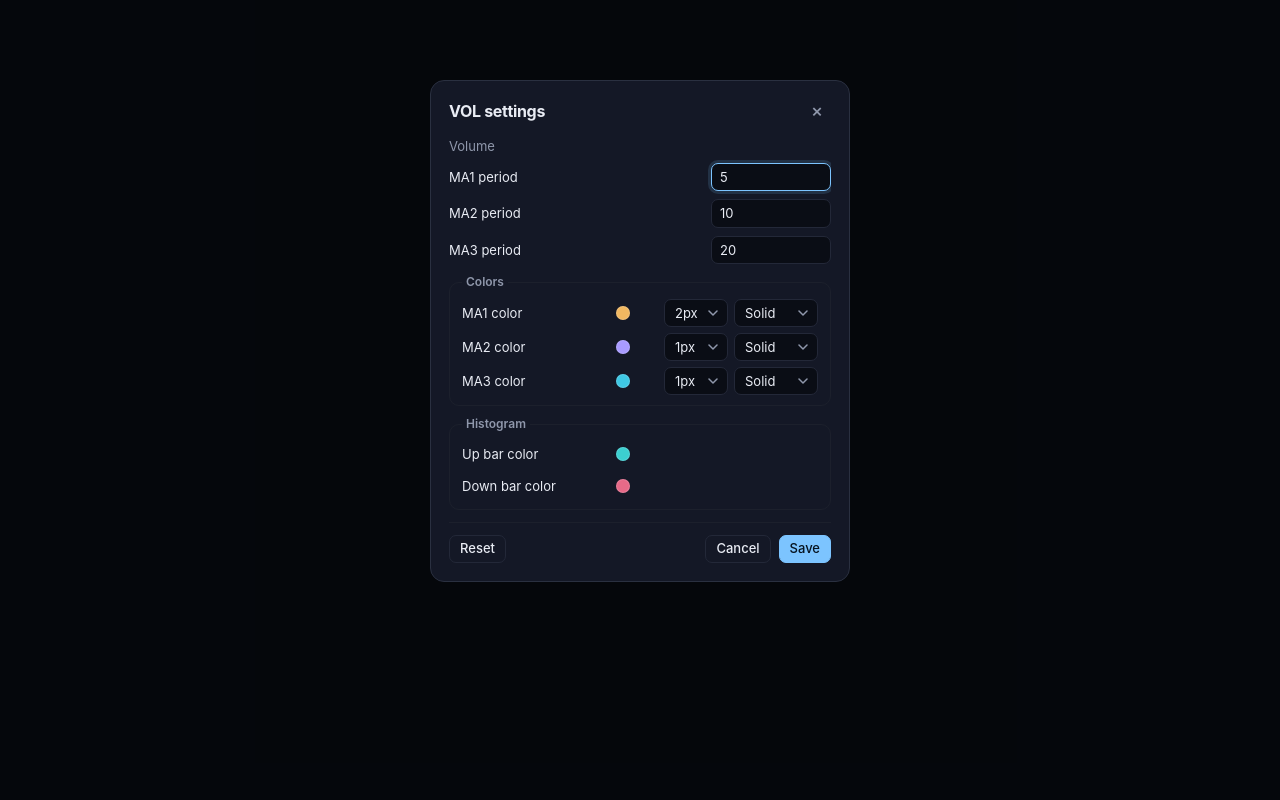
Test: IndicatorSettings line width / style and bar colors › histogram indicators get up/down bar colors; Reset restores everything
Later steps or results of the test are not shown.
Click the button named "Up bar color".
click(623, 454)  # box [610,441,636,467]
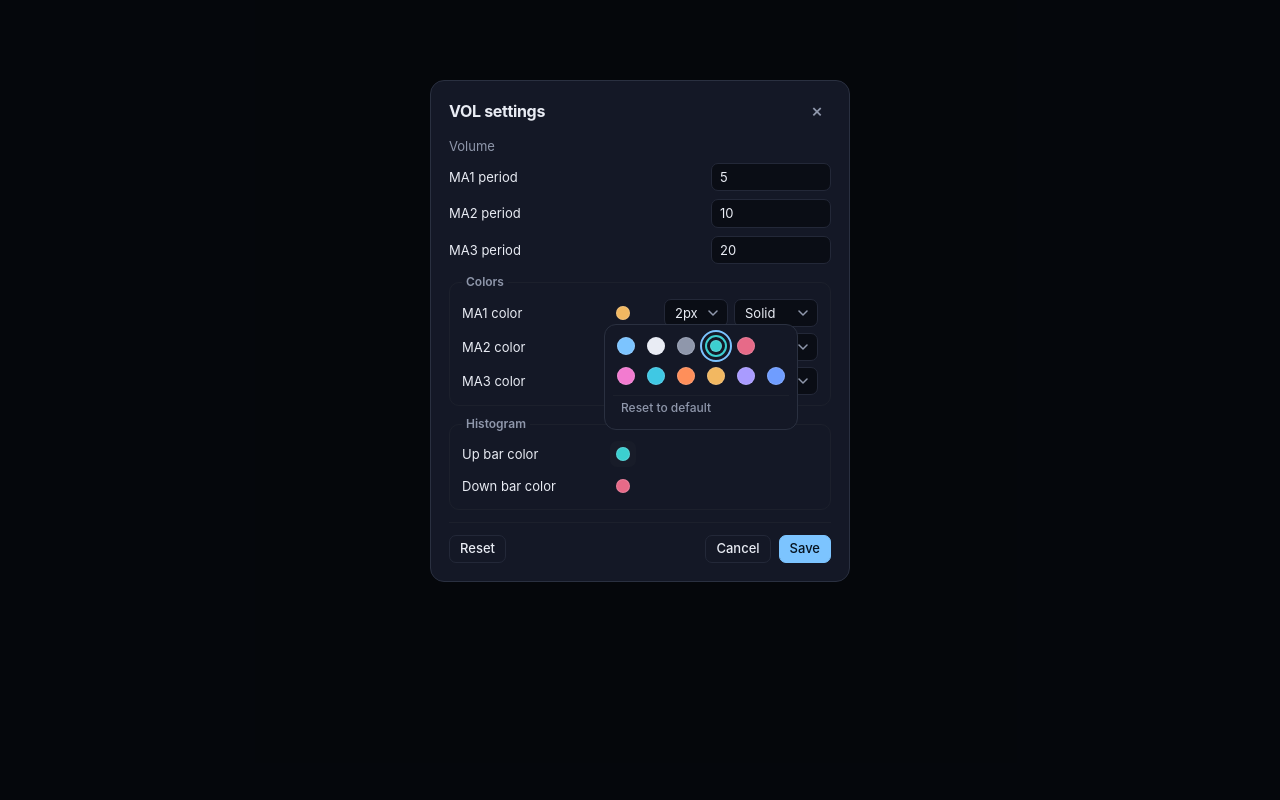
Click the option named "Blue".
click(776, 376)  # box [767,367,785,385]
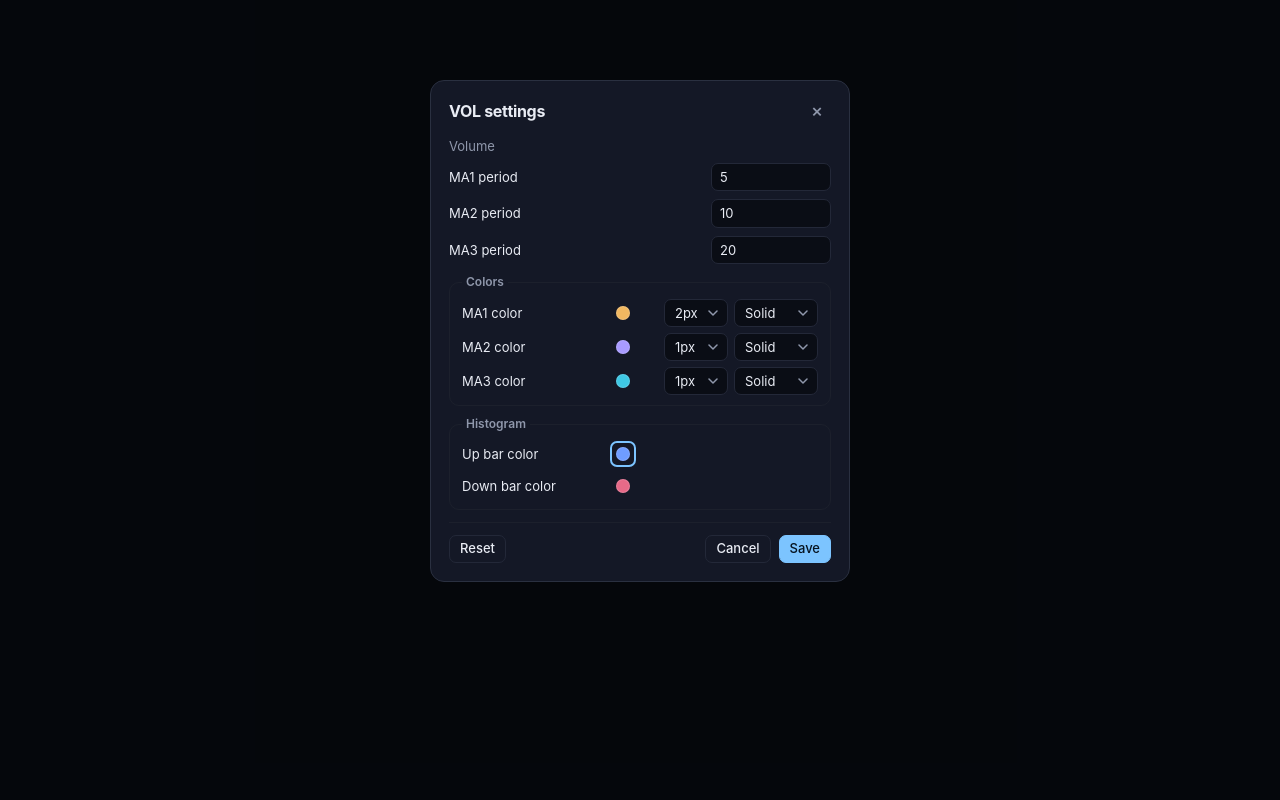
Click the button "Save".
click(805, 549)  # box [779,535,831,563]
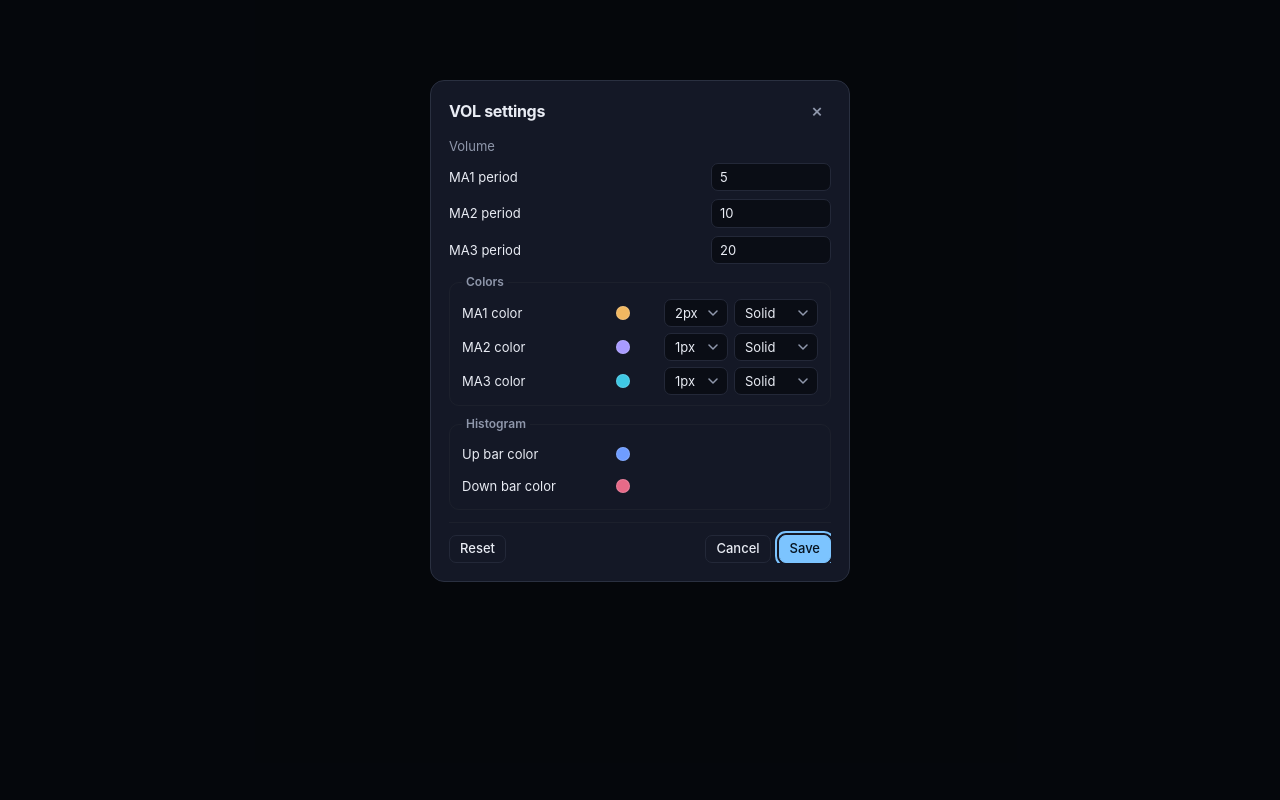
Click the button "Reset".
click(478, 549)  # box [449,535,506,563]
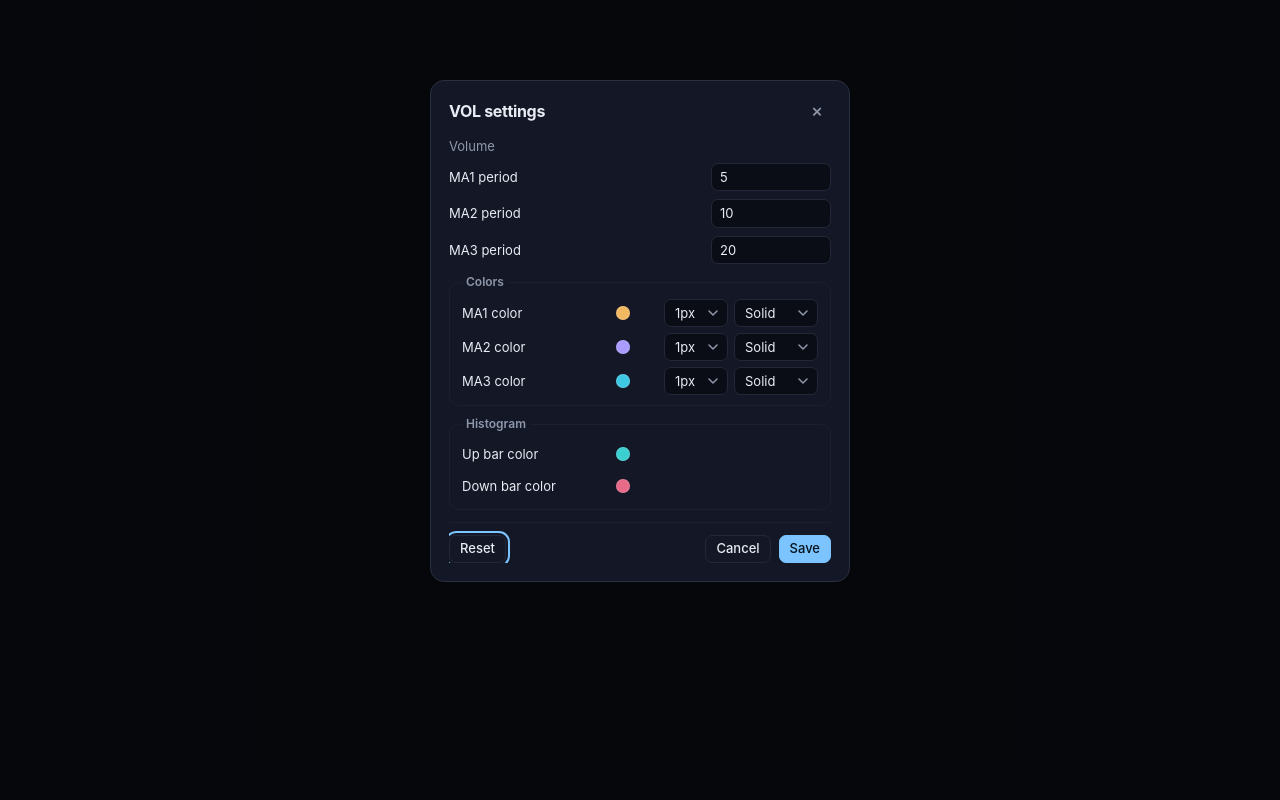
Now the dropdown named "MA1 width" shows "1px", box [664,298,728,327]
